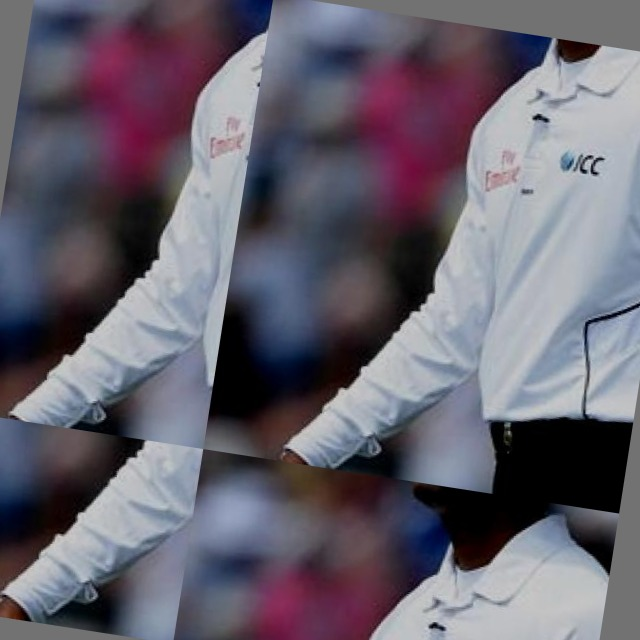No_Action: (203, 54, 640, 514), (173, 449, 619, 640)
No_Ball: (0, 413, 203, 640)
